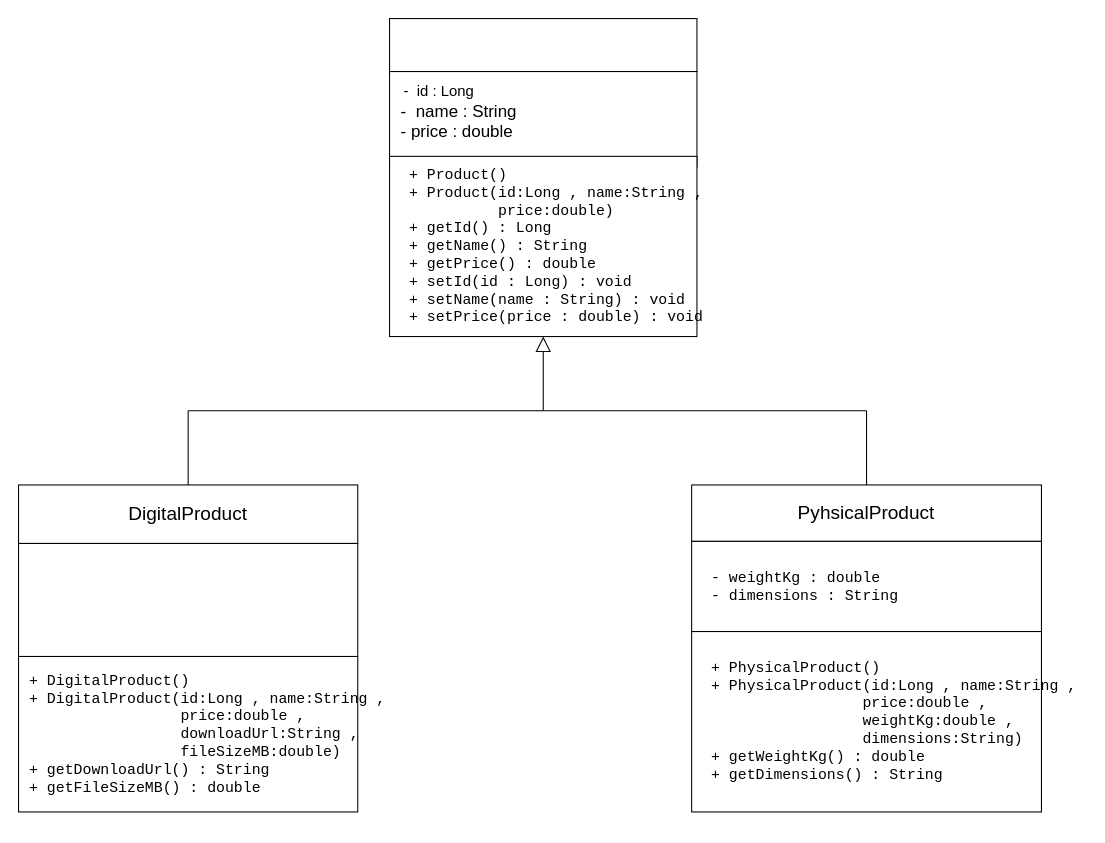
The diagram is 1105 pixels wide and 843 high, and some of its shapes have lost their labels. Here are the shapes that lost their labels. From the top down, the centre of each, then its label:
(x=542, y=44): Product
(x=187, y=599): - downloadUrl : String - fileSizeMB : double
